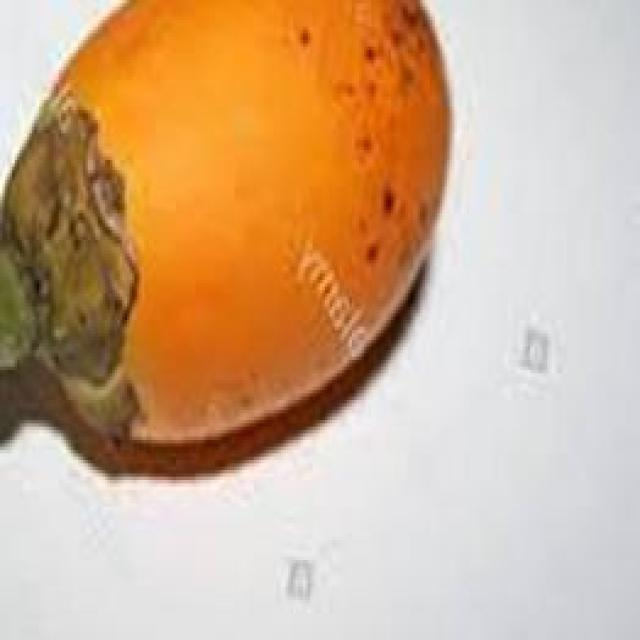good: (0, 0, 454, 480)
